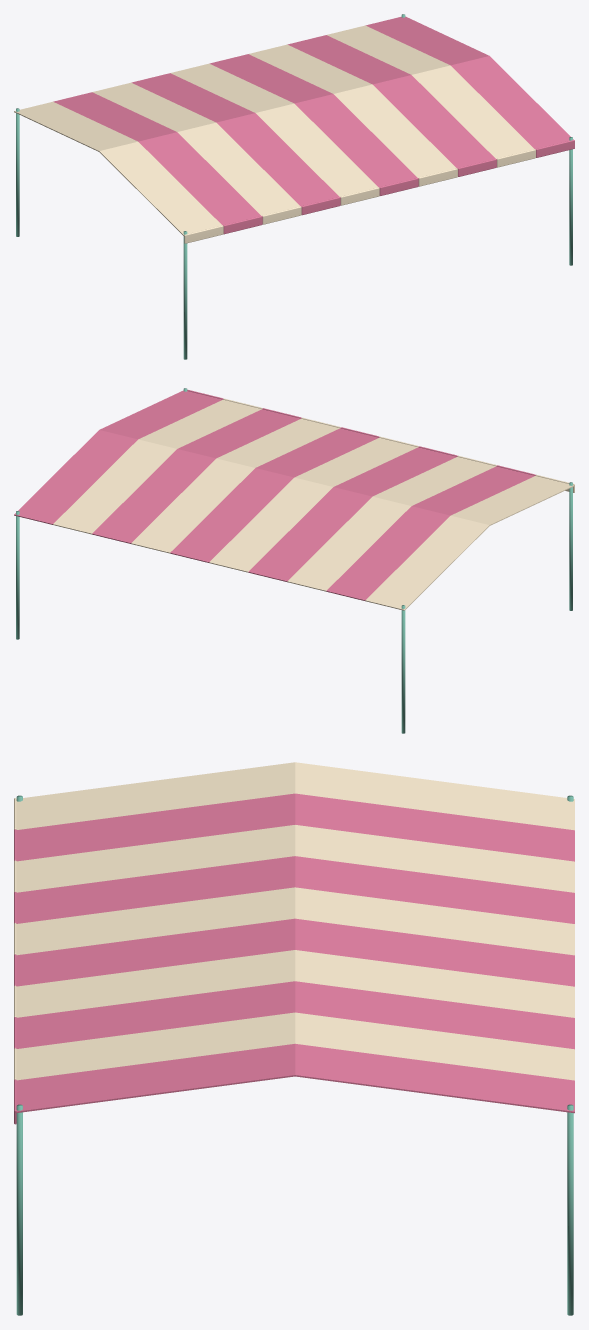
The model's file is Pop_up_canopy.fbx.
The picture shows the model from 3 angles, top to bottom: view 1: azimuth 30°, elevation 25°; view 2: azimuth 150°, elevation 25°; view 3: azimuth 270°, elevation 25°; orthographic projection. The views are drawn at different scales.
Parts seen in each view (by area): view 1: Toon_Pop_up_canopy Striped canvas.010, Toon_Pop_up_canopy Striped canvas.017, Toon_Pop_up_canopy Striped canvas.015, Toon_Pop_up_canopy Striped canvas.012, Toon_Pop_up_canopy Striped canvas.013, Toon_Pop_up_canopy Striped canvas.019, Toon_Pop_up_canopy Striped canvas.011, Toon_Pop_up_canopy Striped canvas.014, Toon_Pop_up_canopy Striped canvas.016, Toon_Pop_up_canopy Striped canvas.018, Toon_Pop_up_canopy Canopy upright.004, Toon_Pop_up_canopy Canopy upright.005 (+1 smaller); view 2: Toon_Pop_up_canopy Striped canvas.010, Toon_Pop_up_canopy Striped canvas.015, Toon_Pop_up_canopy Striped canvas.013, Toon_Pop_up_canopy Striped canvas.017, Toon_Pop_up_canopy Striped canvas.011, Toon_Pop_up_canopy Striped canvas.018, Toon_Pop_up_canopy Striped canvas.012, Toon_Pop_up_canopy Striped canvas.014, Toon_Pop_up_canopy Striped canvas.016, Toon_Pop_up_canopy Striped canvas.019, Toon_Pop_up_canopy Canopy upright.005, Toon_Pop_up_canopy Canopy upright.004 (+1 smaller); view 3: Toon_Pop_up_canopy Striped canvas.019, Toon_Pop_up_canopy Striped canvas.017, Toon_Pop_up_canopy Striped canvas.012, Toon_Pop_up_canopy Striped canvas.013, Toon_Pop_up_canopy Striped canvas.016, Toon_Pop_up_canopy Striped canvas.014, Toon_Pop_up_canopy Striped canvas.015, Toon_Pop_up_canopy Striped canvas.011, Toon_Pop_up_canopy Striped canvas.018, Toon_Pop_up_canopy Striped canvas.010, Toon_Pop_up_canopy Canopy upright.006, Toon_Pop_up_canopy Canopy upright.007.
Part boxes in pixels (x1,y1,x2,y2): Toon_Pop_up_canopy Striped canvas.010: (14,101,222,236); Toon_Pop_up_canopy Striped canvas.017: (287,35,495,168); Toon_Pop_up_canopy Striped canvas.015: (209,54,417,187); Toon_Pop_up_canopy Striped canvas.012: (92,82,300,215); Toon_Pop_up_canopy Striped canvas.013: (131,73,339,206); Toon_Pop_up_canopy Striped canvas.019: (365,16,573,149); Toon_Pop_up_canopy Striped canvas.011: (53,92,260,225); Toon_Pop_up_canopy Striped canvas.014: (170,63,378,196); Toon_Pop_up_canopy Striped canvas.016: (249,44,456,177); Toon_Pop_up_canopy Striped canvas.018: (327,25,534,158); Toon_Pop_up_canopy Canopy upright.004: (183,231,187,359); Toon_Pop_up_canopy Canopy upright.005: (16,108,19,236); Toon_Pop_up_canopy Striped canvas.010: (365,476,574,610); Toon_Pop_up_canopy Striped canvas.015: (170,428,378,562); Toon_Pop_up_canopy Striped canvas.013: (248,447,456,581); Toon_Pop_up_canopy Striped canvas.017: (92,409,300,543); Toon_Pop_up_canopy Striped canvas.011: (326,466,535,600); Toon_Pop_up_canopy Striped canvas.018: (53,399,261,534); Toon_Pop_up_canopy Striped canvas.012: (287,457,495,591); Toon_Pop_up_canopy Striped canvas.014: (209,437,417,572); Toon_Pop_up_canopy Striped canvas.016: (131,418,339,553); Toon_Pop_up_canopy Striped canvas.019: (14,390,222,524); Toon_Pop_up_canopy Canopy upright.005: (401,605,405,733); Toon_Pop_up_canopy Canopy upright.004: (569,482,572,610); Toon_Pop_up_canopy Striped canvas.019: (15,1043,574,1113); Toon_Pop_up_canopy Striped canvas.017: (16,981,574,1049); Toon_Pop_up_canopy Striped canvas.012: (16,825,574,892); Toon_Pop_up_canopy Striped canvas.013: (16,856,574,923); Toon_Pop_up_canopy Striped canvas.016: (16,950,574,1017); Toon_Pop_up_canopy Striped canvas.014: (16,887,574,955); Toon_Pop_up_canopy Striped canvas.015: (16,918,574,986); Toon_Pop_up_canopy Striped canvas.011: (16,793,574,861); Toon_Pop_up_canopy Striped canvas.018: (16,1012,574,1080); Toon_Pop_up_canopy Striped canvas.010: (16,762,574,830); Toon_Pop_up_canopy Canopy upright.006: (16,1104,22,1315); Toon_Pop_up_canopy Canopy upright.007: (567,1104,573,1315).
Size of the model in its own units: 820 by 295 by 621.
